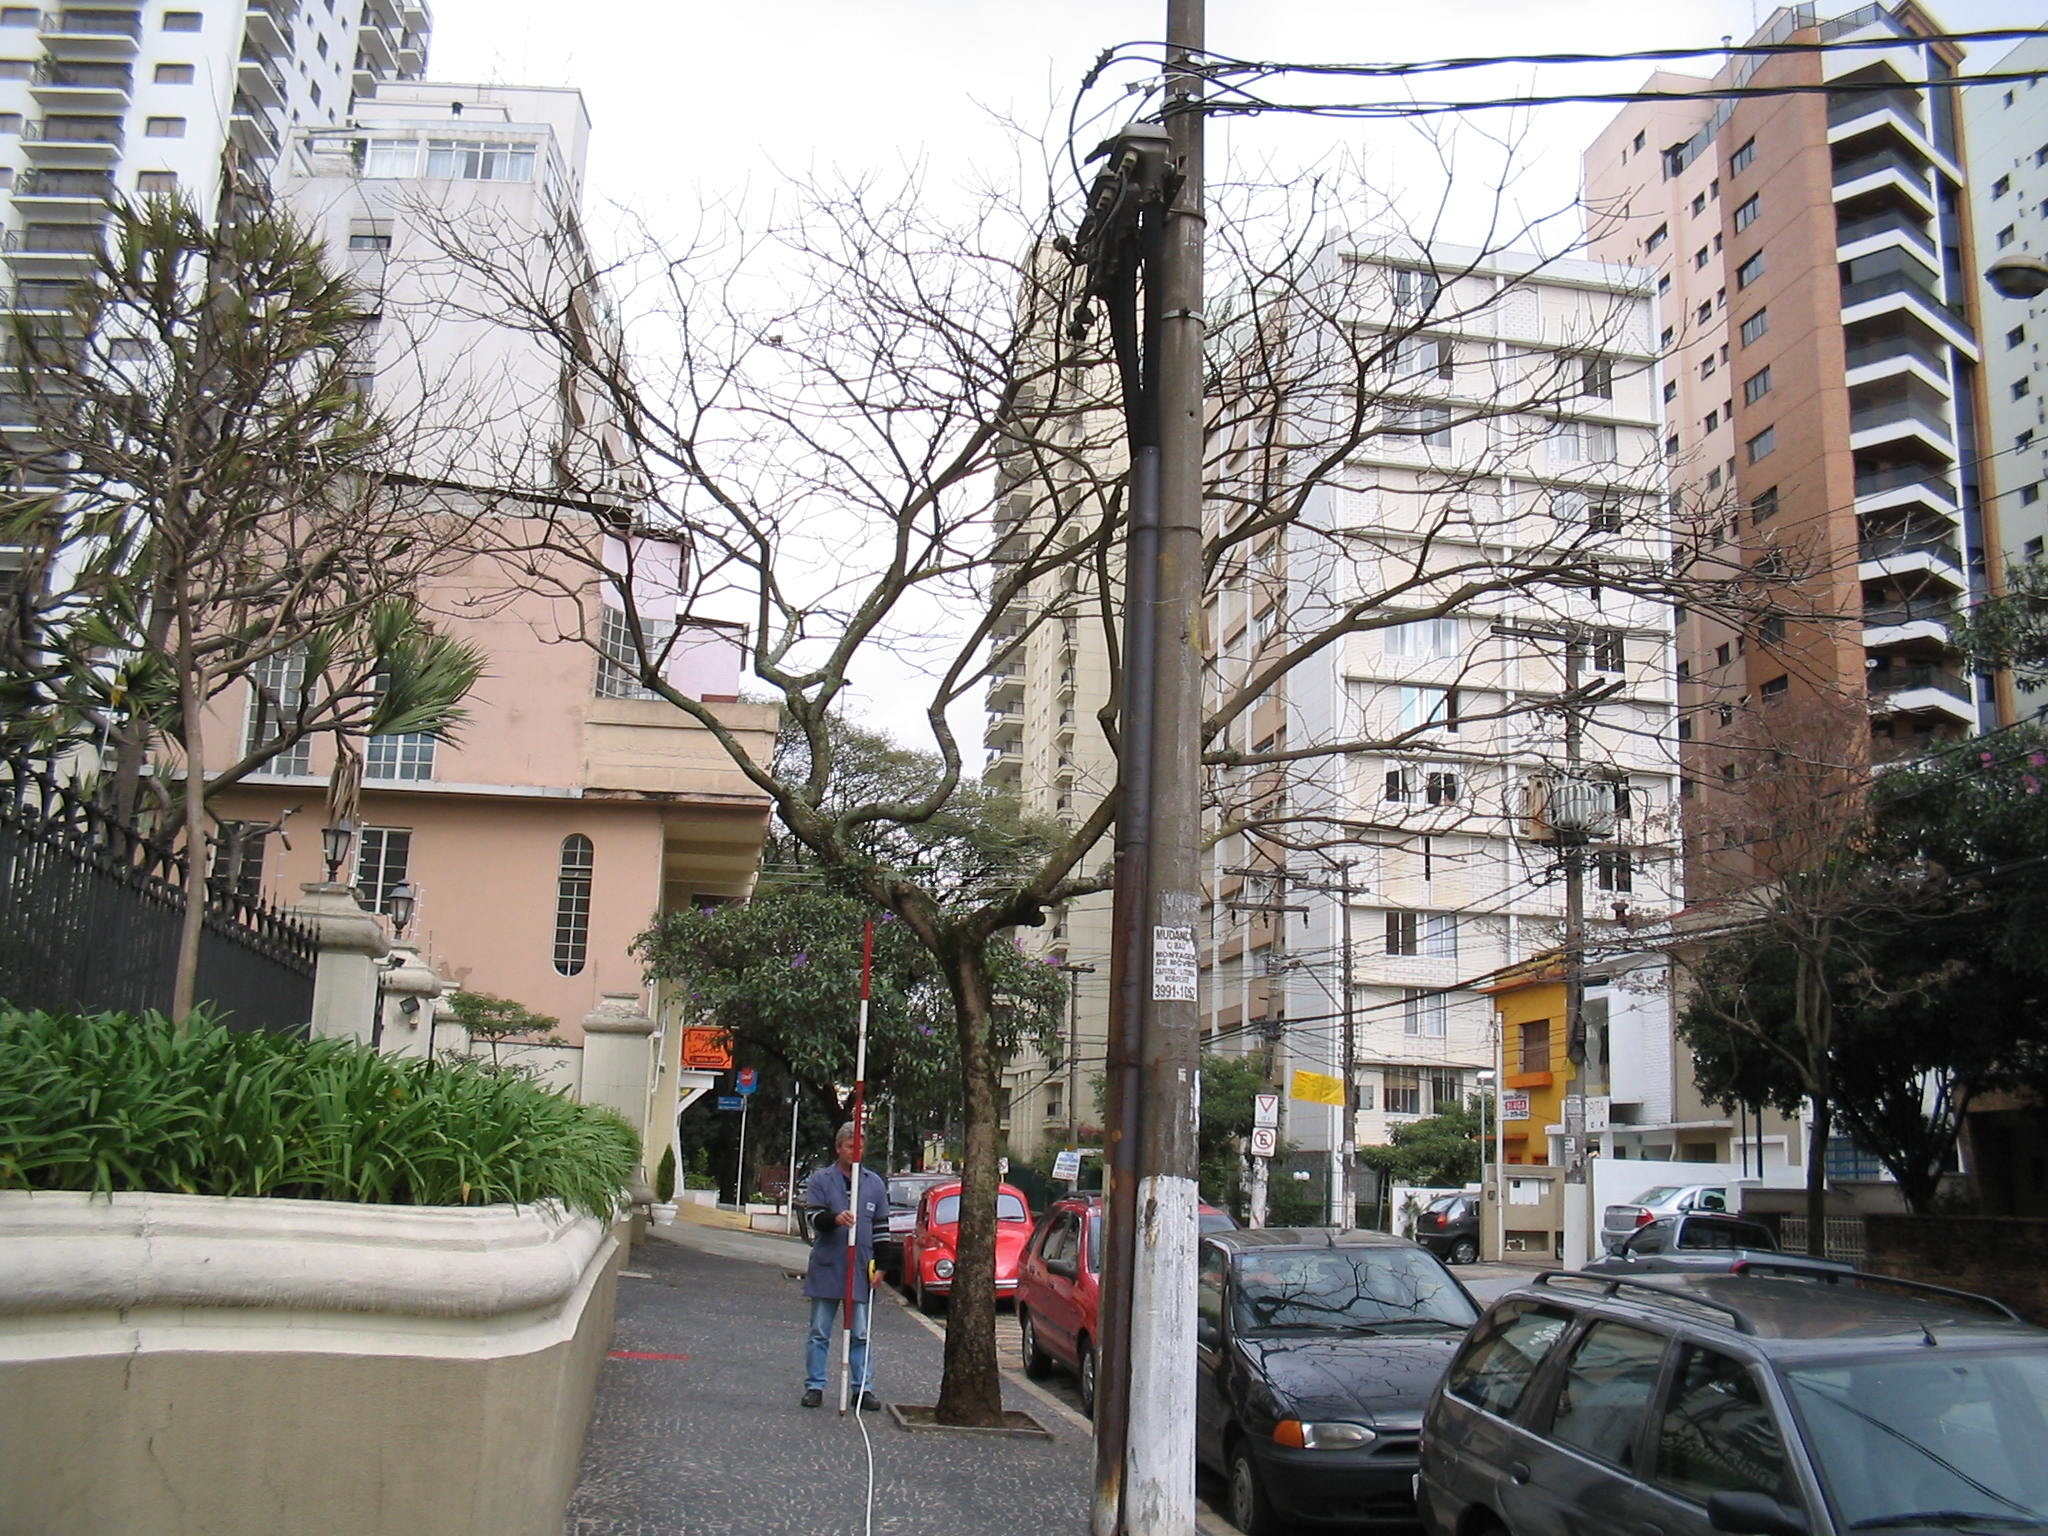stem: (914, 945, 1050, 1423)
stick: (819, 913, 887, 1421)
tree: (352, 144, 1934, 1425)
